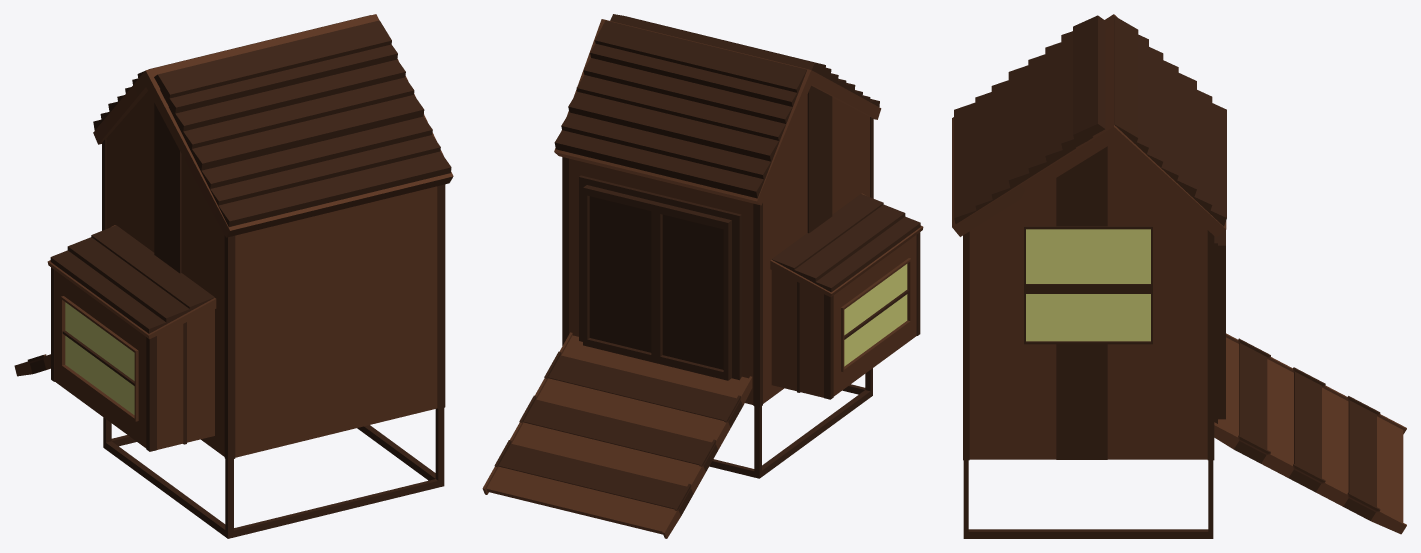
Rendered from ChickenCoop.fbx.
3 views of the same model, side by side, from view 1: azimuth 30°, elevation 25°; view 2: azimuth 150°, elevation 25°; view 3: azimuth 270°, elevation 25° (orthographic). The views are drawn at different scales.
Visible parts, largest first — view 1: Chickencoop; view 2: Chickencoop; view 3: Chickencoop.
Boxes of the visible parts, x1,y1,x2,y2 form: Chickencoop: (14,14,453,538); Chickencoop: (482,14,923,538); Chickencoop: (952,14,1406,538).
Size of the model in its own units: 4.33 by 5.91 by 5.85.
